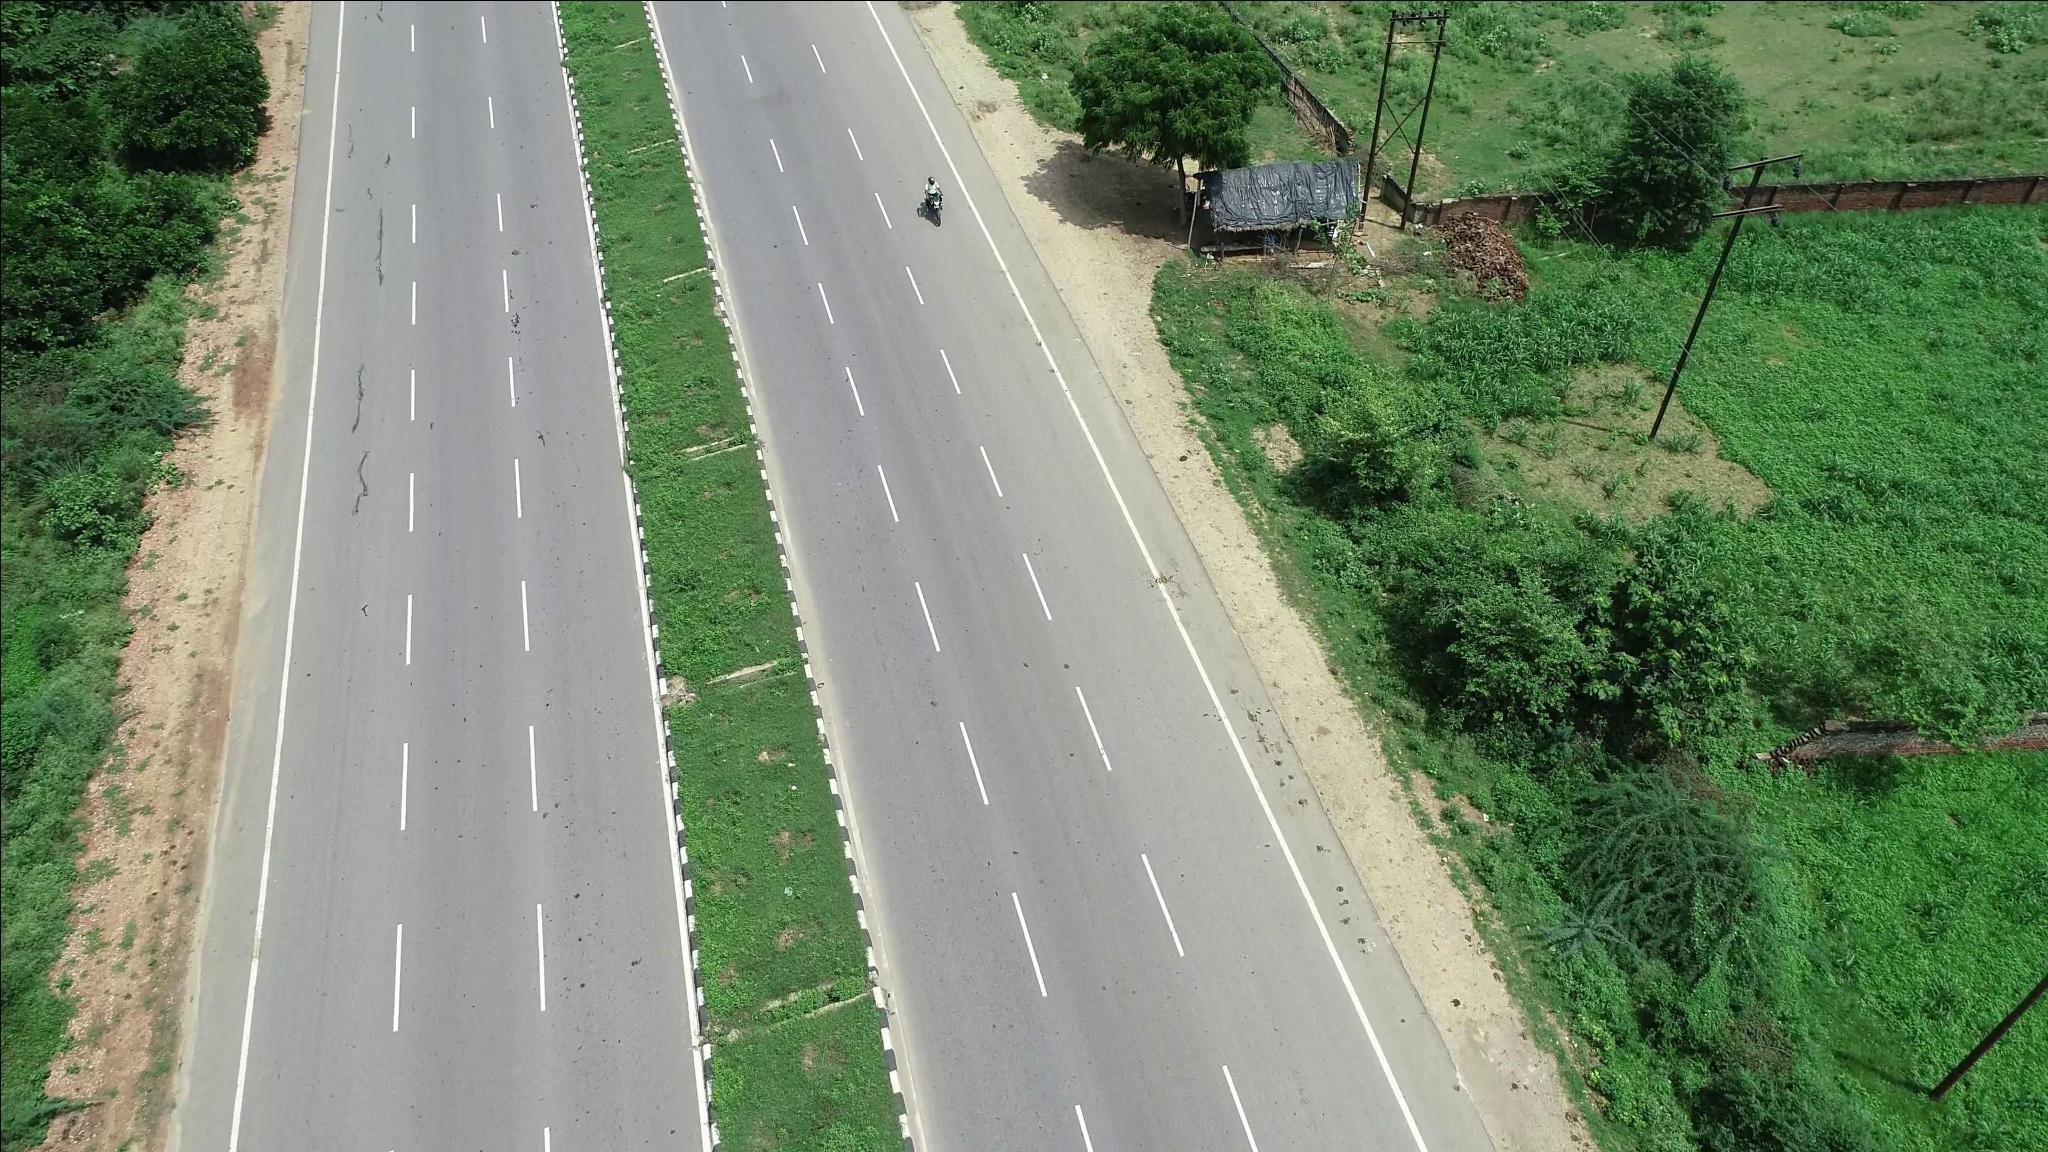Cracks: (340, 347, 383, 511), (364, 152, 409, 300)
